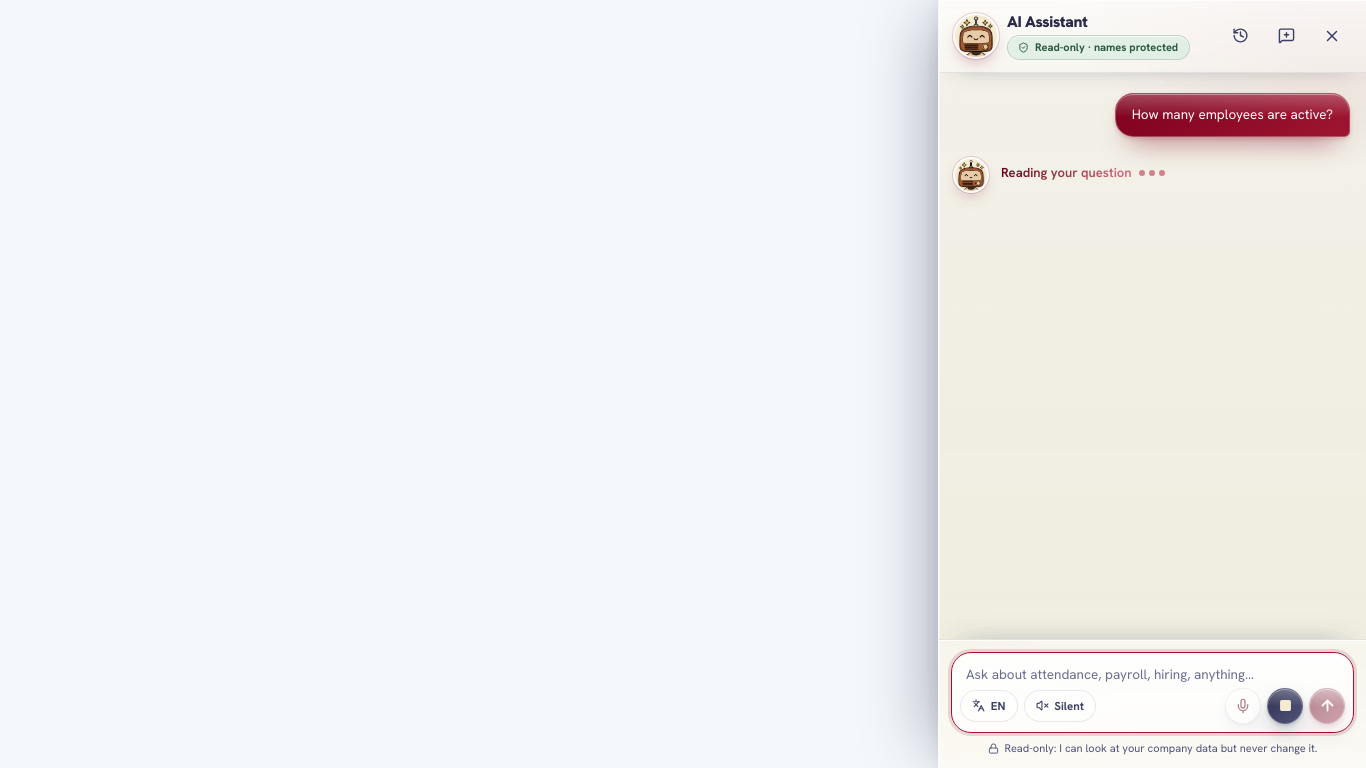
AssistantHost: stopping an answer › offers Stop while it works, and ends the answer as stopped
Expected: the button with test id "assistant-send" is disabled, [1309,688,1345,724]
Click the button with test id "assistant-stop": (1285, 706) [1267,688,1303,724]
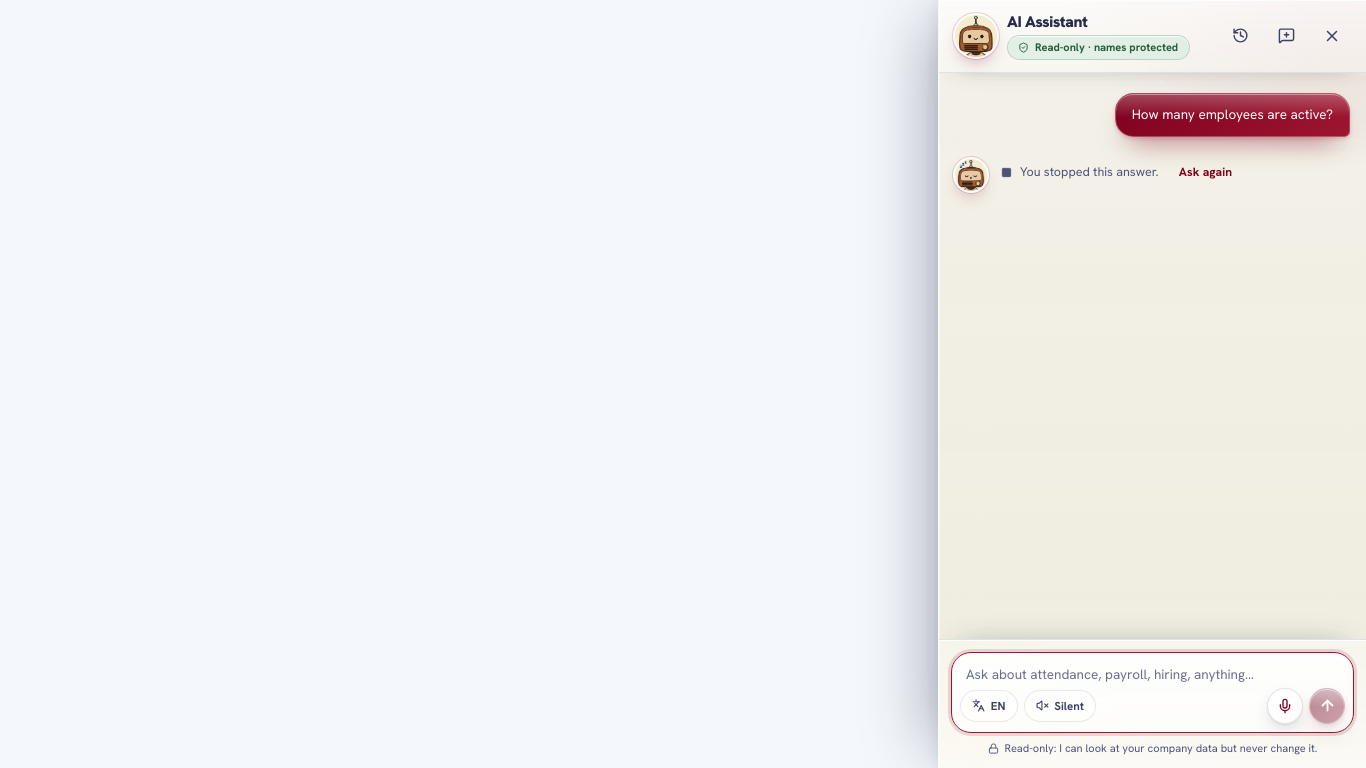
Expected: the element with test id "assistant-stopped" shows "You stopped this answer", [1020,163,1159,180]
Expected: the button with test id "assistant-stop" is gone
